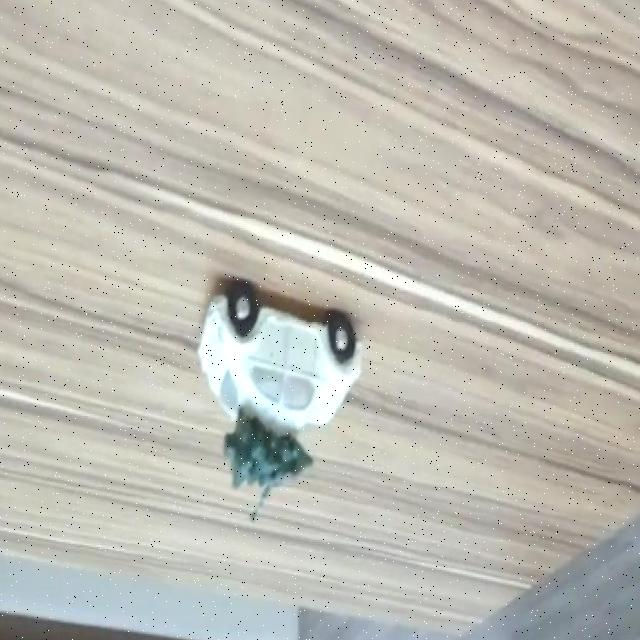car: (204, 288, 362, 424)
